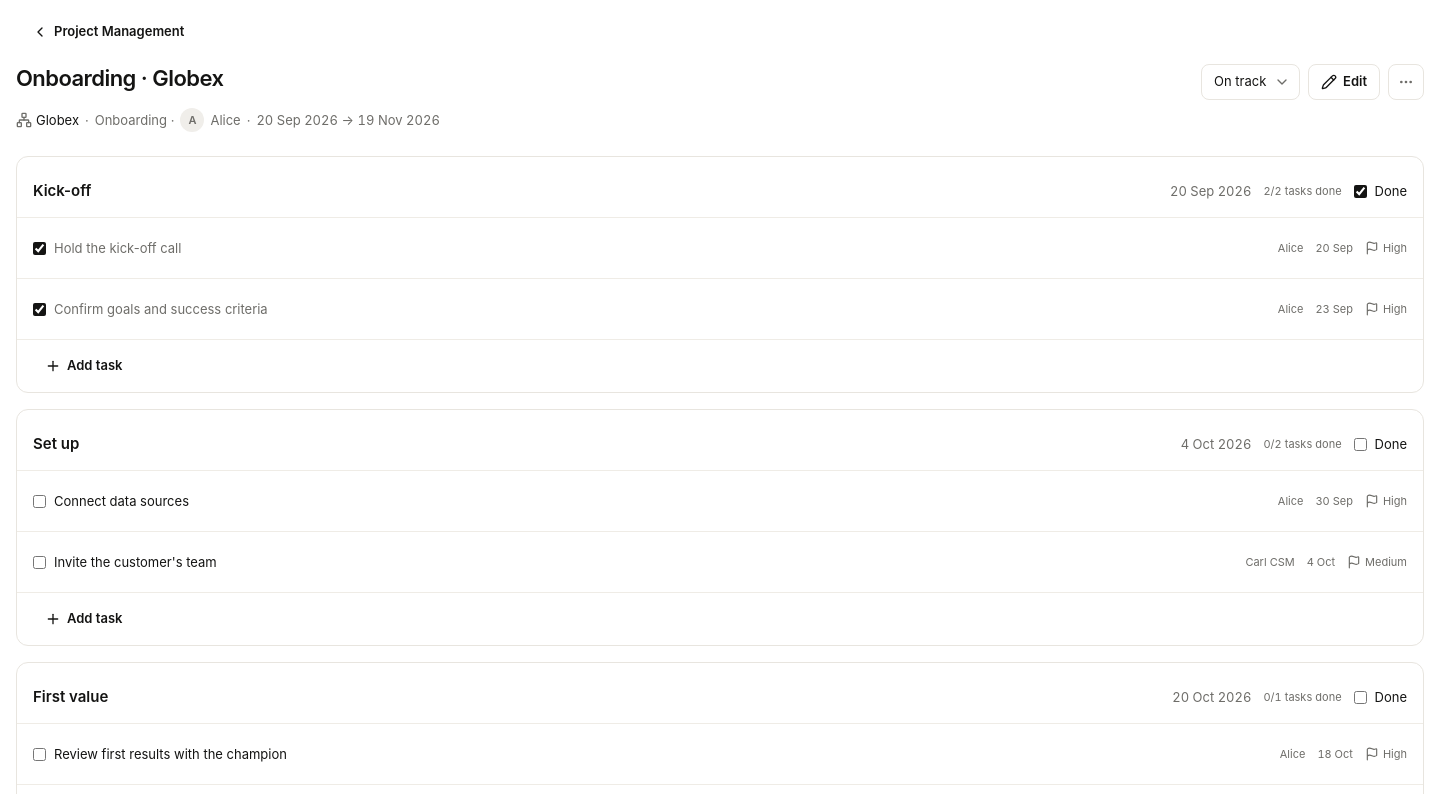
Scenario: a plan on the primitives (Impact PR) › shows the status select and Edit, and keeps Save as template, Cancel plan and Delete in ⋯ (danger last)
Expected: the heading "Onboarding · Globex" is shown, [16,65,223,91]
Expected: the button "Save as template" is not shown
Click the button named "More actions".
click(1406, 82)  # box [1388,64,1424,100]
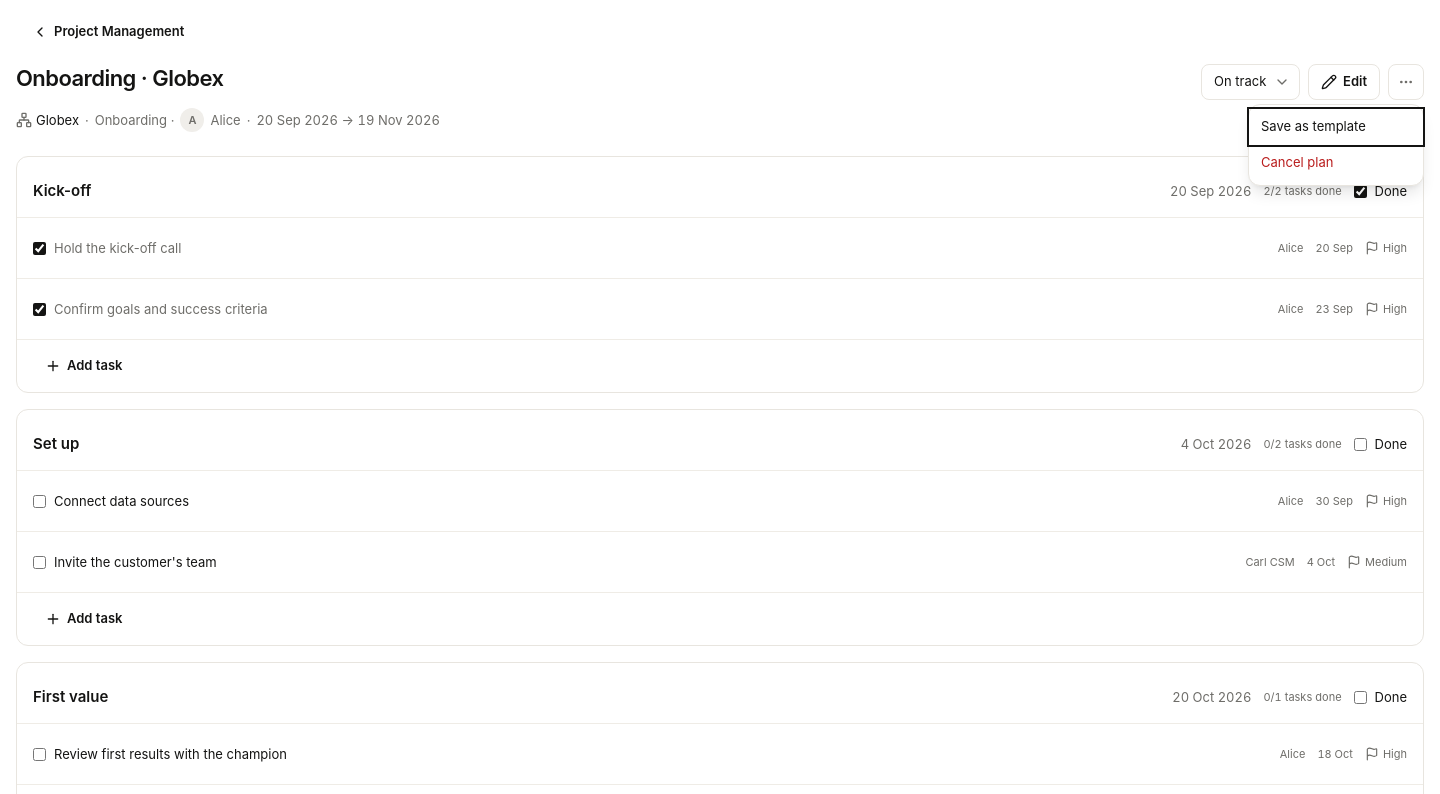
Now the menu item "Save as template" is shown, box [1249,109,1423,145]
